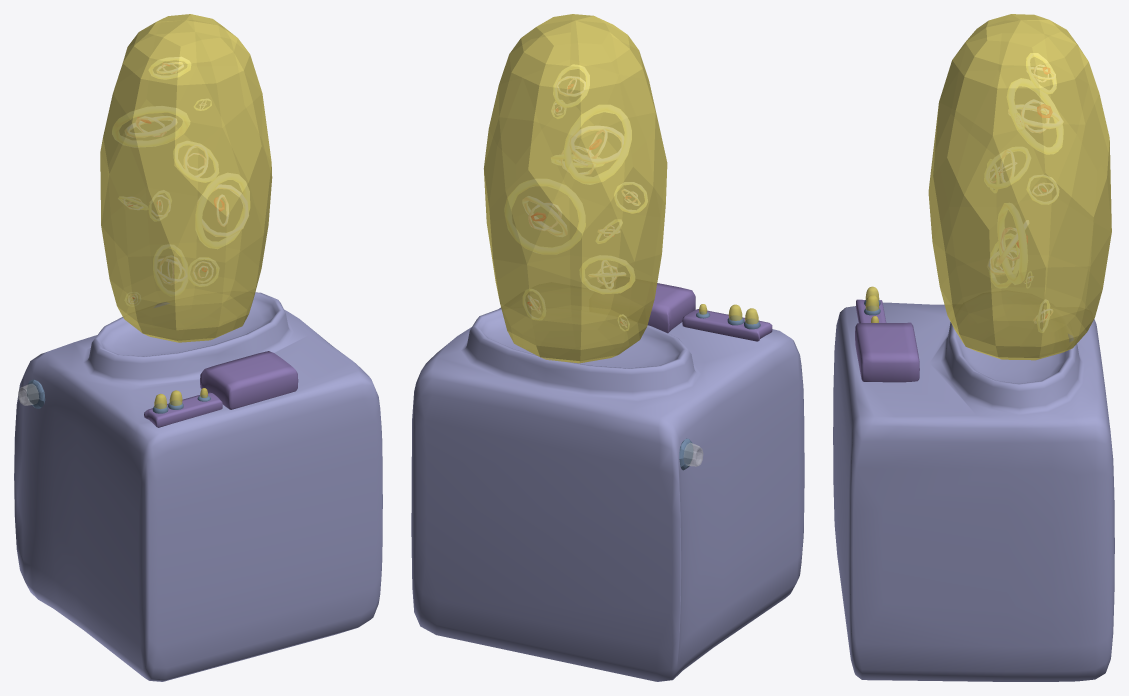
The model's file is hornitomagic.glb.
3 views of the same model, side by side, from view 1: azimuth 30°, elevation 25°; view 2: azimuth 150°, elevation 25°; view 3: azimuth 270°, elevation 25° (orthographic). The views are drawn at different scales.
Parts seen in each view (by area): view 1: horno_2; view 2: horno_2; view 3: horno_2.
Boxes of the visible parts, bbox=[...] form: horno_2: bbox=[14, 14, 382, 681]; horno_2: bbox=[411, 14, 804, 681]; horno_2: bbox=[833, 14, 1114, 681].
Bounding box in the file's own units: 1.99 × 4.21 × 1.76.
